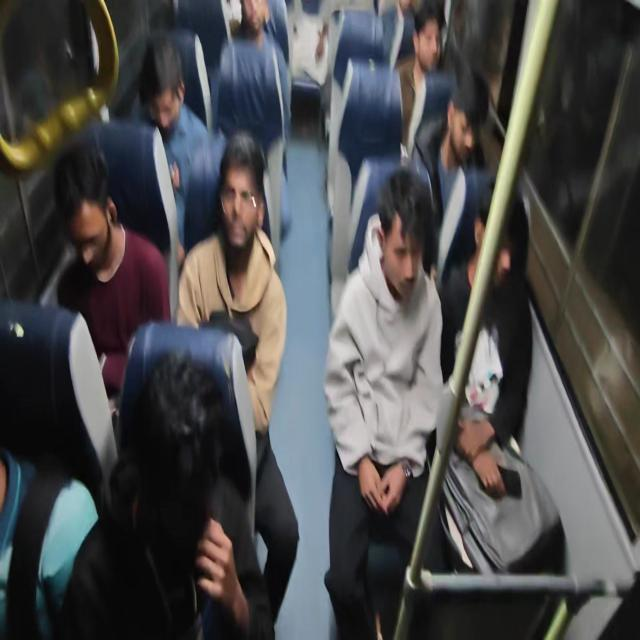person: (5, 1, 563, 638), (176, 129, 299, 627), (59, 348, 264, 638), (323, 167, 445, 638), (435, 185, 565, 576), (52, 140, 172, 403), (441, 185, 533, 458), (130, 31, 226, 254), (215, 0, 293, 262), (409, 72, 491, 291), (397, 6, 446, 162)
